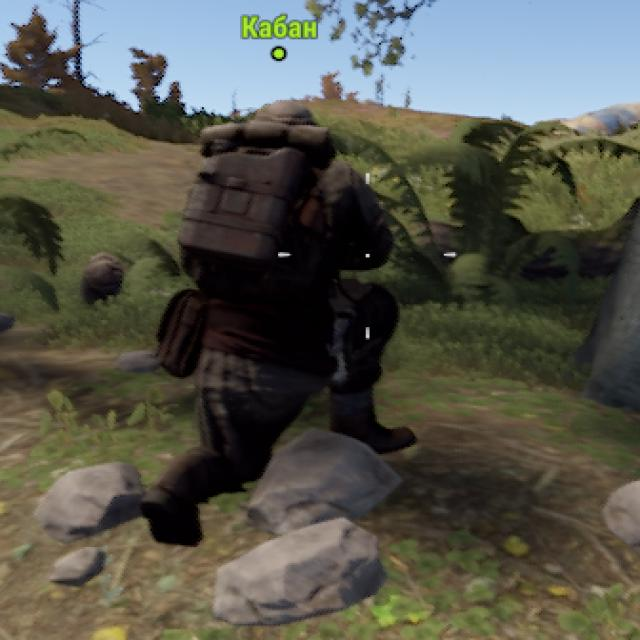Player: (147, 103, 407, 542)
